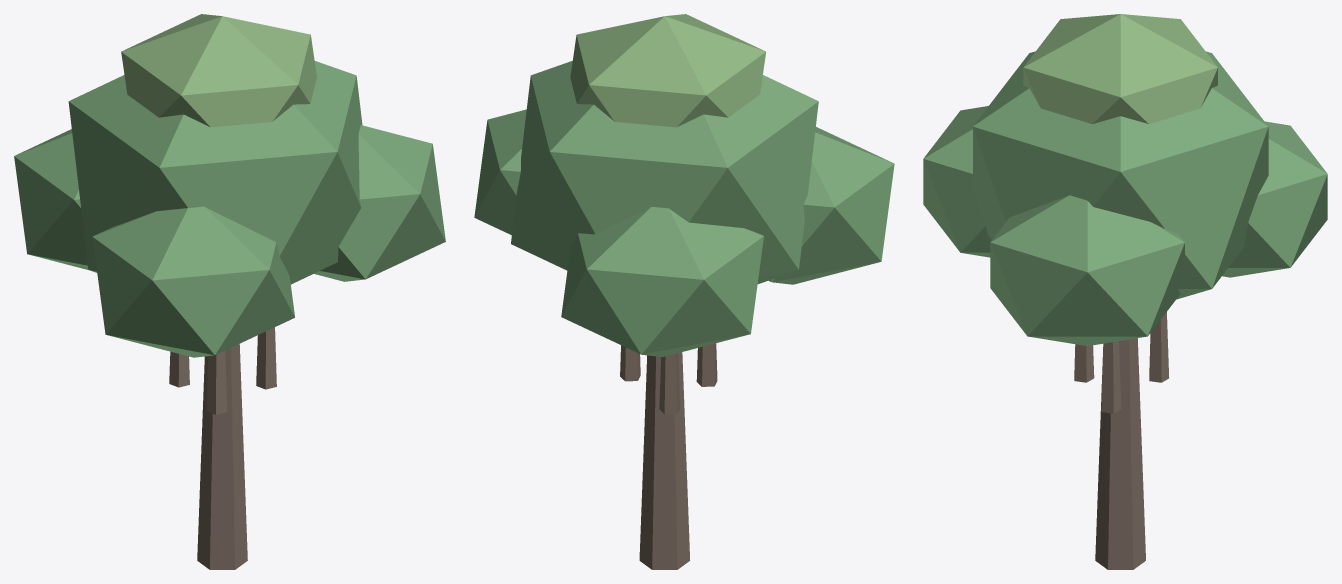
File: veg-tree-broadleaf-b.glb
The picture shows the model from 3 angles, left to right: view 1: azimuth 30°, elevation 25°; view 2: azimuth 150°, elevation 25°; view 3: azimuth 270°, elevation 25°; orthographic projection.
Parts seen in each view (by area): view 1: canopy, canopy-top, trunk; view 2: canopy, canopy-top, trunk; view 3: canopy, canopy-top, trunk.
Part boxes in pixels (x1=…): canopy: x1=14, y1=61, x2=445, y2=357; canopy-top: x1=121, y1=14, x2=316, y2=127; trunk: x1=169, y1=327, x2=276, y2=569; canopy: x1=474, y1=61, x2=894, y2=356; canopy-top: x1=570, y1=14, x2=765, y2=127; trunk: x1=620, y1=343, x2=717, y2=569; canopy: x1=923, y1=51, x2=1327, y2=346; canopy-top: x1=1023, y1=14, x2=1217, y2=123; trunk: x1=1074, y1=312, x2=1169, y2=569.
Bounding box in the file's own units: 4.93 × 7.12 × 4.77.
